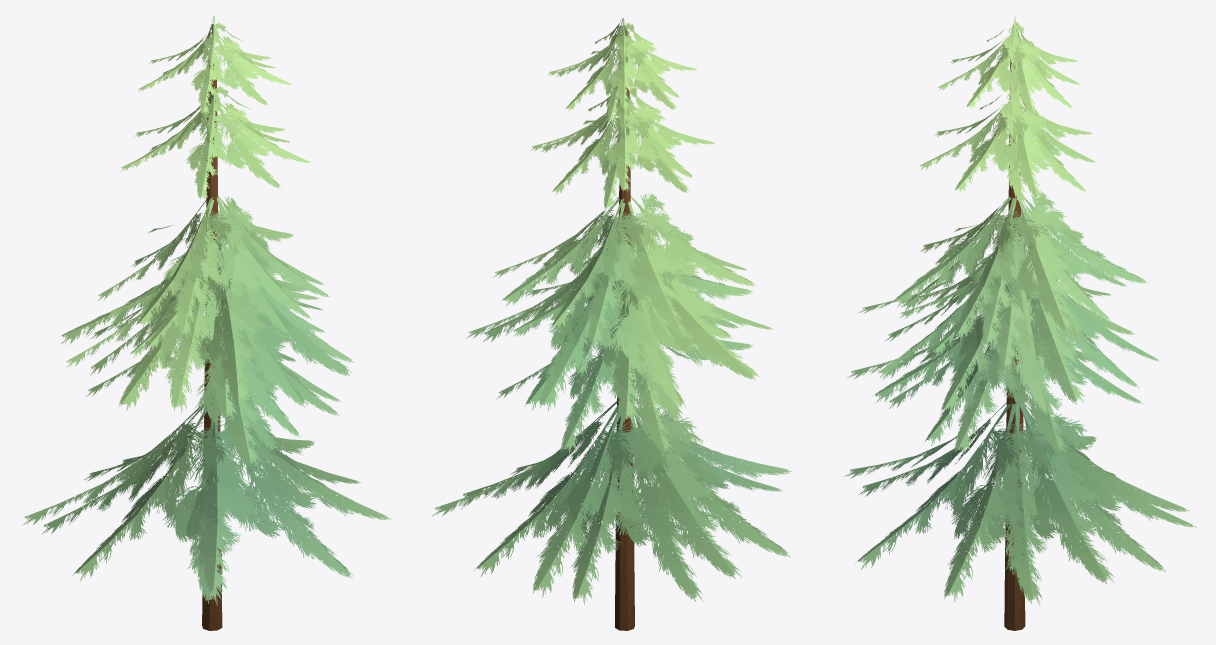
File: pine_tree_06_26340.glb
The picture shows the model from 3 angles, left to right: view 1: azimuth 30°, elevation 25°; view 2: azimuth 150°, elevation 25°; view 3: azimuth 270°, elevation 25°; orthographic projection.
Visible parts, largest first — view 1: 02_Leaves, 01_Trunk; view 2: 02_Leaves, 01_Trunk; view 3: 02_Leaves, 01_Trunk.
Part boxes in pixels (x1,y1,x2,y2): 02_Leaves: [22, 16, 391, 605]; 01_Trunk: [202, 60, 222, 630]; 02_Leaves: [432, 18, 791, 604]; 01_Trunk: [615, 85, 634, 630]; 02_Leaves: [843, 17, 1196, 605]; 01_Trunk: [1004, 59, 1025, 630].
Size of the model in its own units: 5.59 by 10 by 5.51.
Materials: 2 (1 with a texture image).
